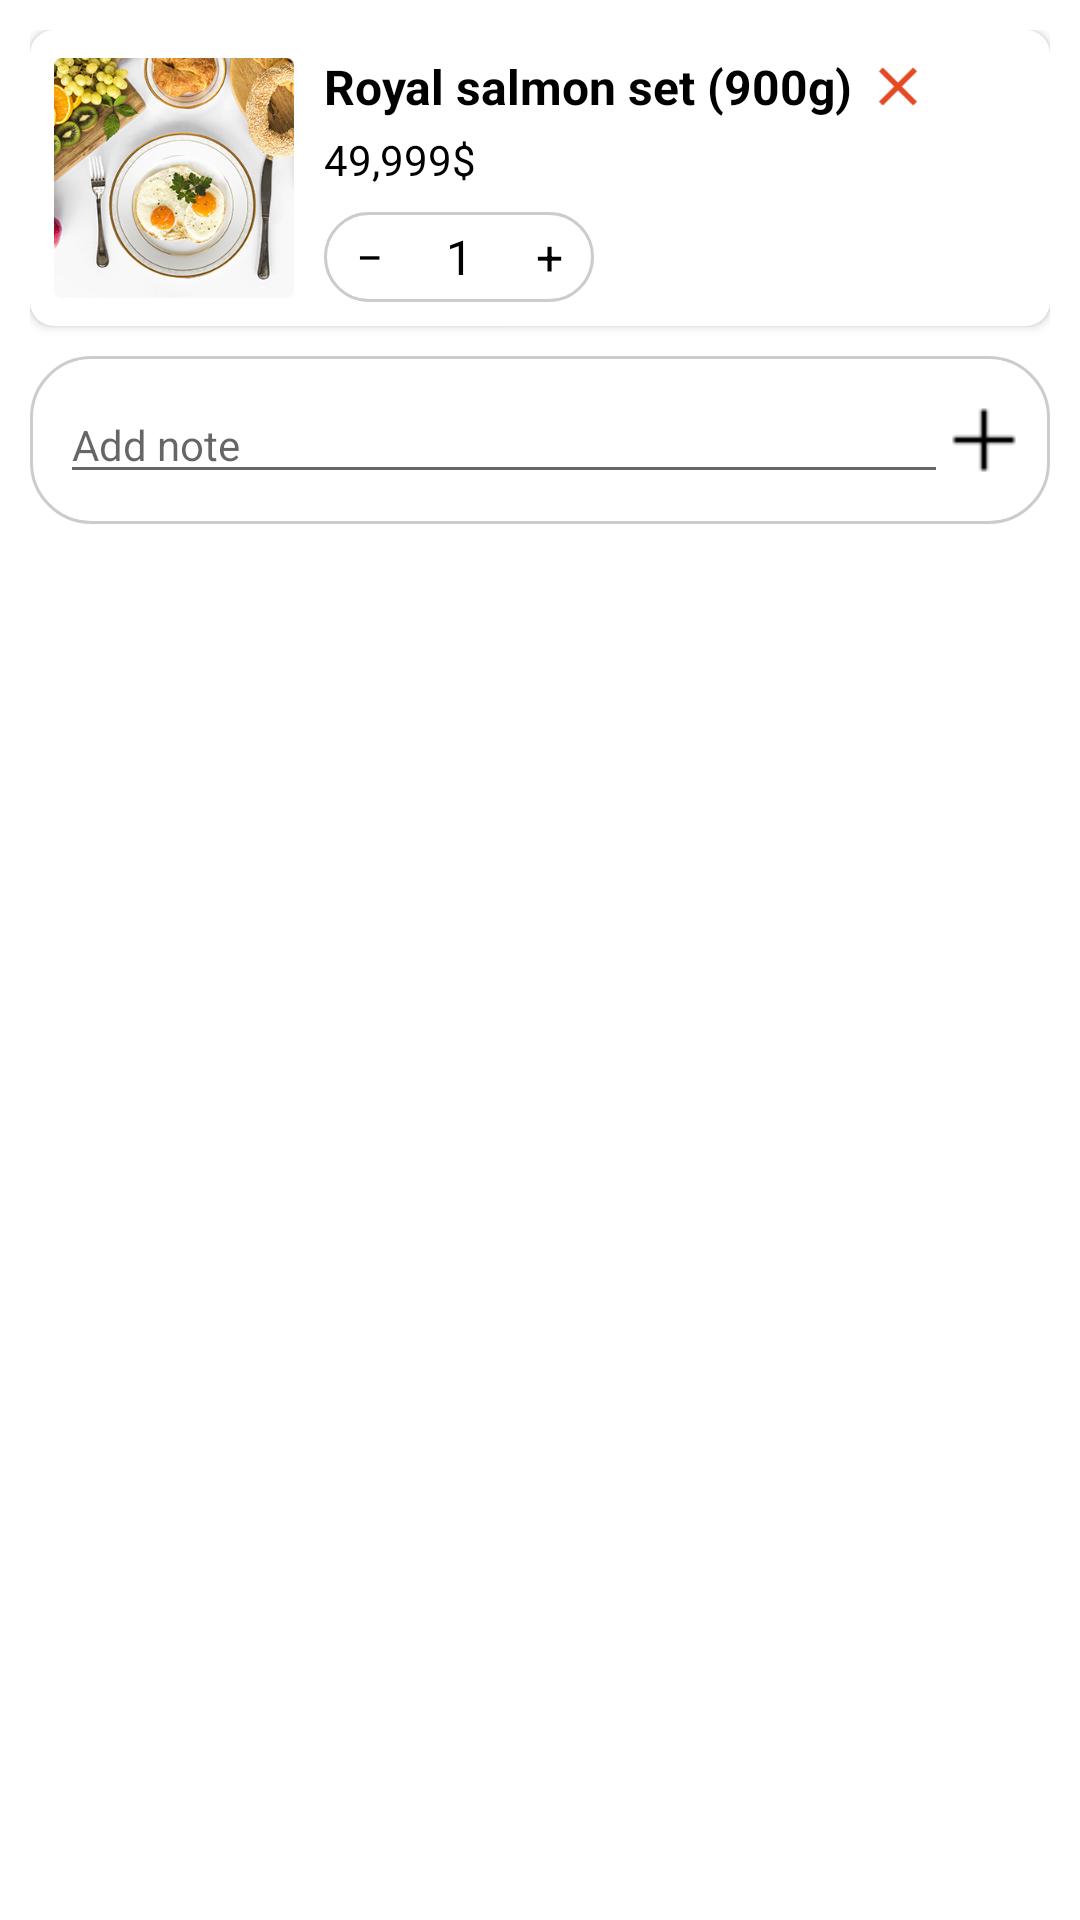

Locate icon controls on the screen. Image size 1080px x 1920px, boxes as (x1, y1, x2, y2).
close: (878, 67, 918, 106)
imgmon: (54, 58, 294, 280)
plus: (952, 408, 1016, 472)
